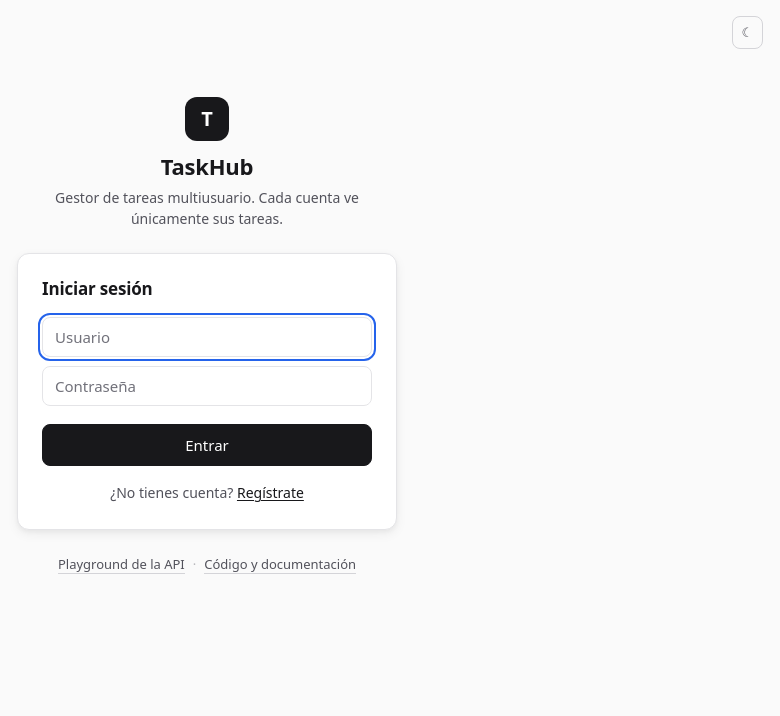
Test case: cambiar entre entrar y registrarse › el enlace lleva al registro
Click the button "Regístrate".
click(270, 493)  # box [237, 483, 304, 502]
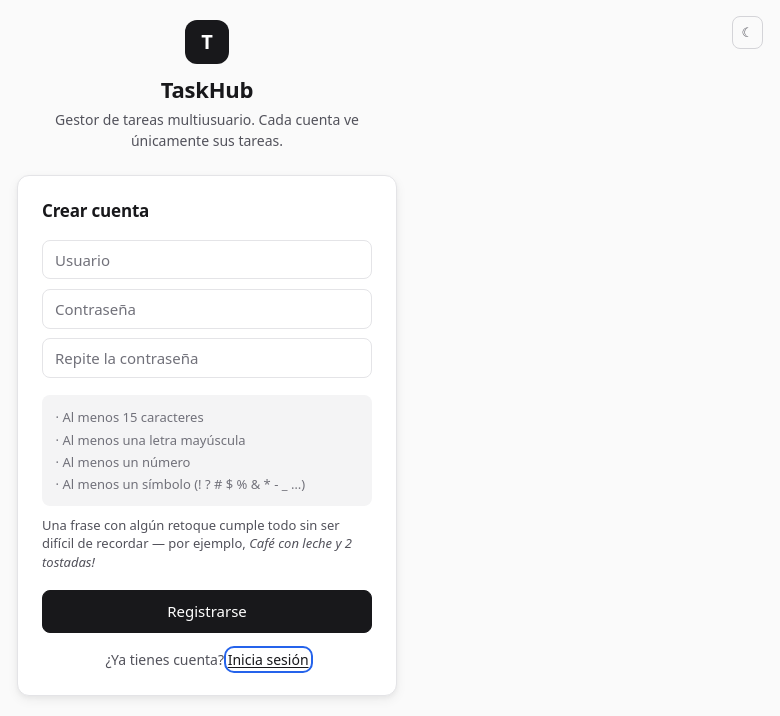
Now the heading "Crear cuenta" is shown, box [42, 199, 149, 222]
Now the password field labelled "Repite la contraseña" is shown, box [42, 338, 372, 378]
